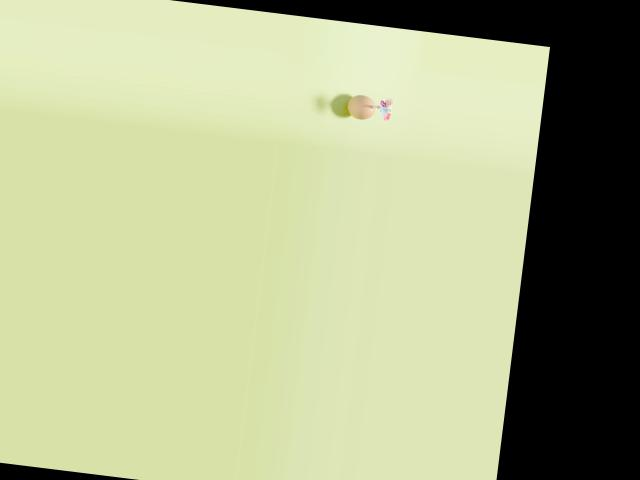egg: (346, 93, 376, 120)
